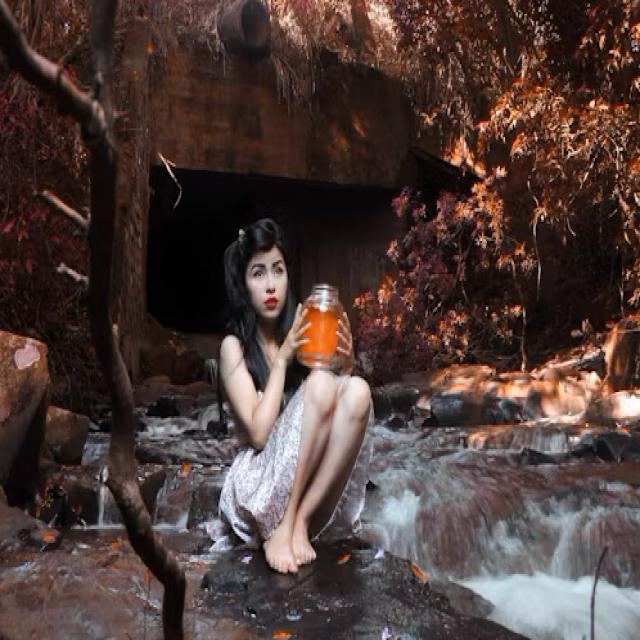Edited images: (205, 208, 389, 596)
